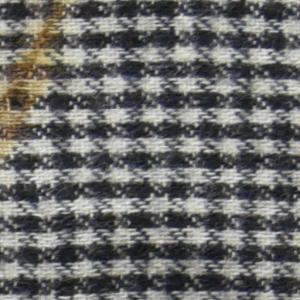Damage: (1, 59, 48, 140)
Oil Stain: (1, 1, 81, 164)
